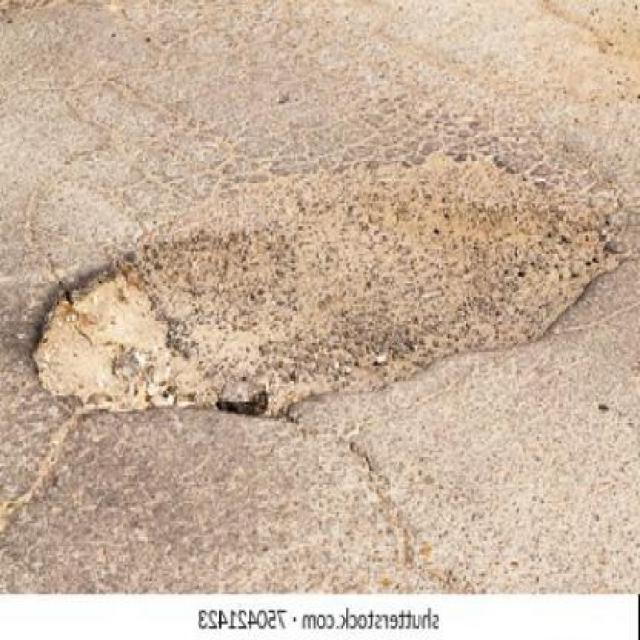pothole: (30, 153, 626, 419)
